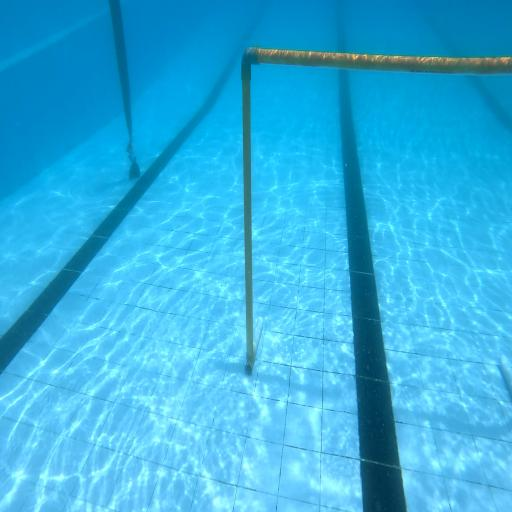gate: (241, 48, 512, 402)
